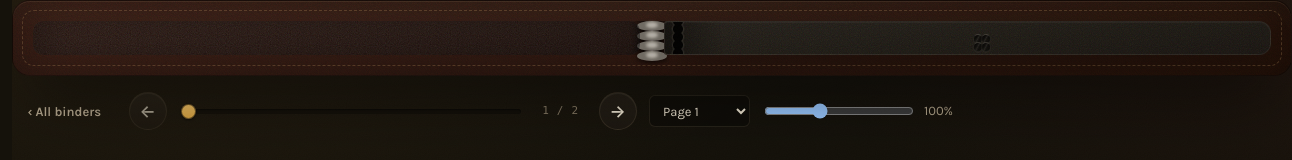
Test: BinderView manual arrange › clicking Next page clears a pending selection, so the nav bar no longer offers an action for the page just left behind
Click the button named "select ivysaur": x=986, y=39 [980,34,990,44]
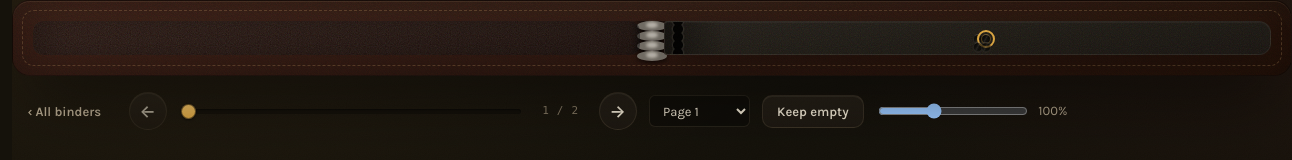
expect the button "Keep empty" is shown: met, box [762,94,864,128]
Click the button named "next page": x=618, y=111 [598,92,636,130]
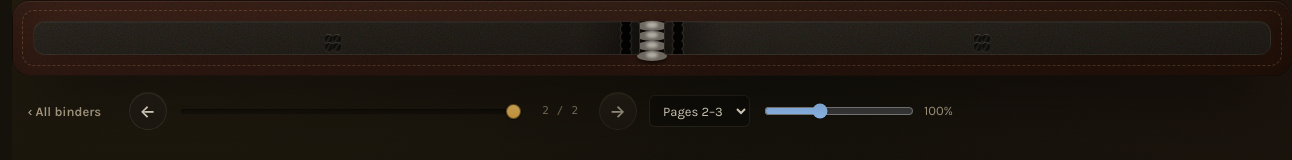
expect the button "Keep empty" is gone: met
